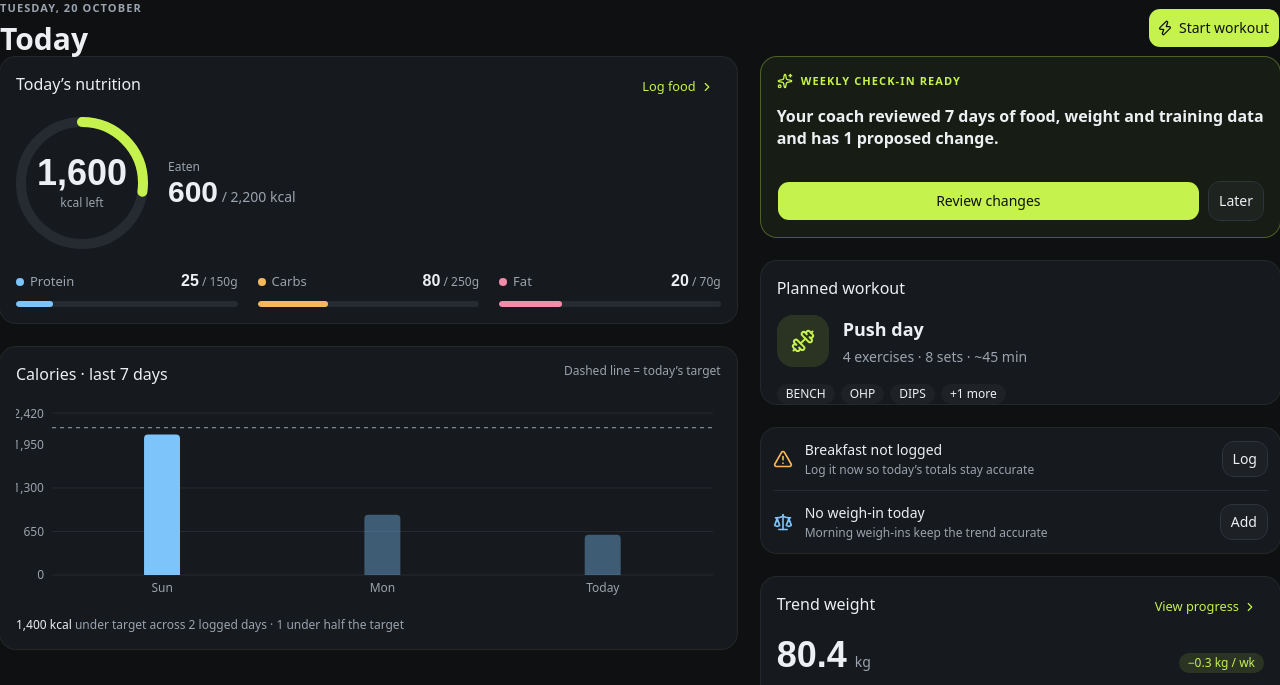
Test: HomePage › rejects an implausible weight
Click the button with aria-label "Add today’s weigh-in" at [1244, 522], box [1220,504,1268,540]
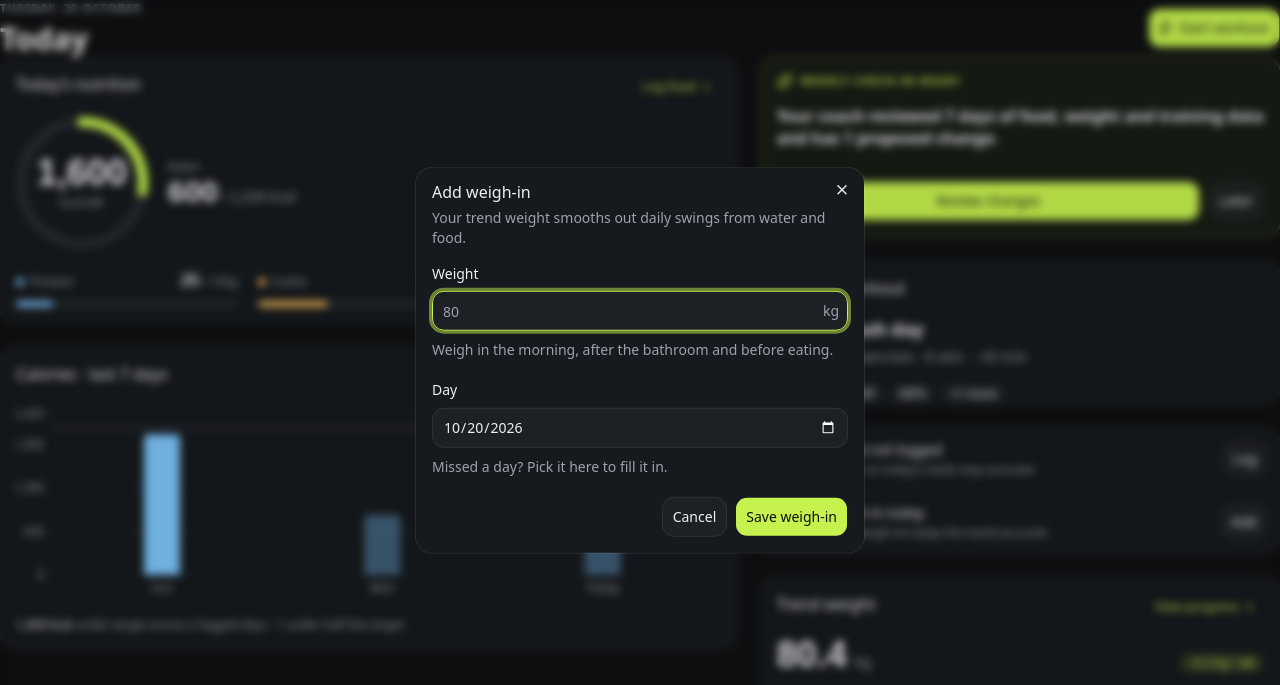
Type "8" into the field labelled "Weight" at [628, 311], box [433,295,823,327]
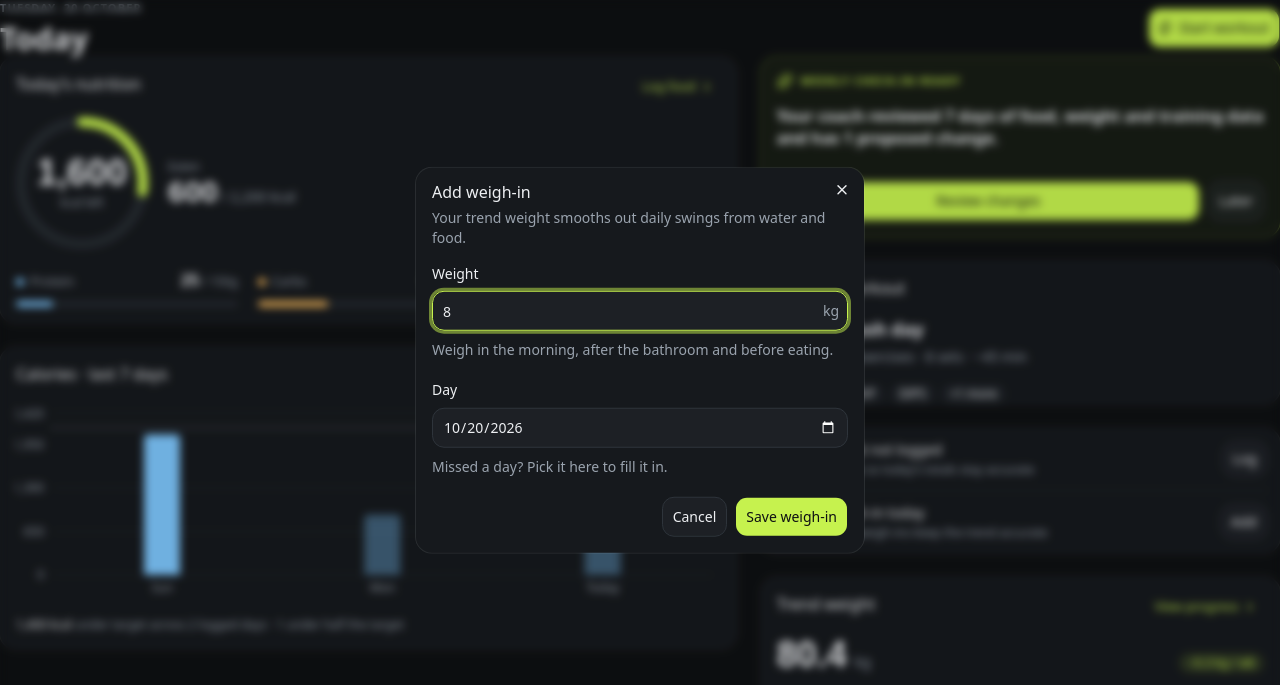
Click the button "Save weigh-in" at [792, 516], box [735,496,848,536]
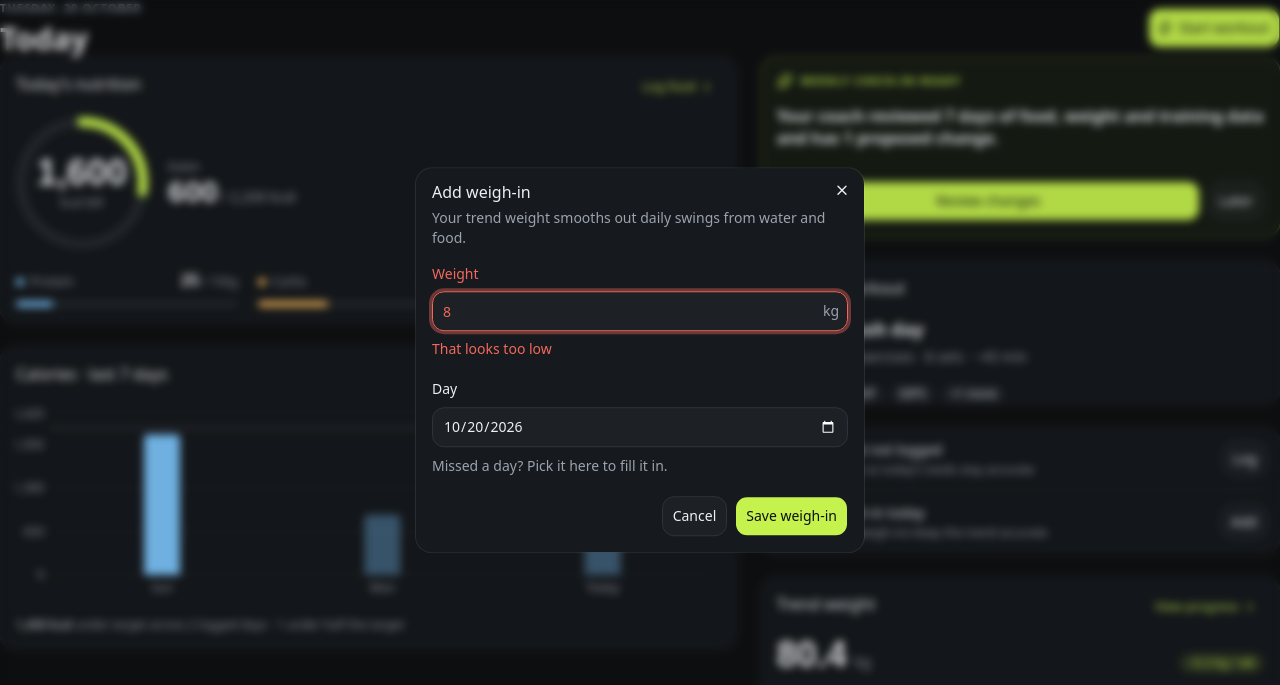
Expected: the text "That looks too low" is shown, [432,340,552,358]
